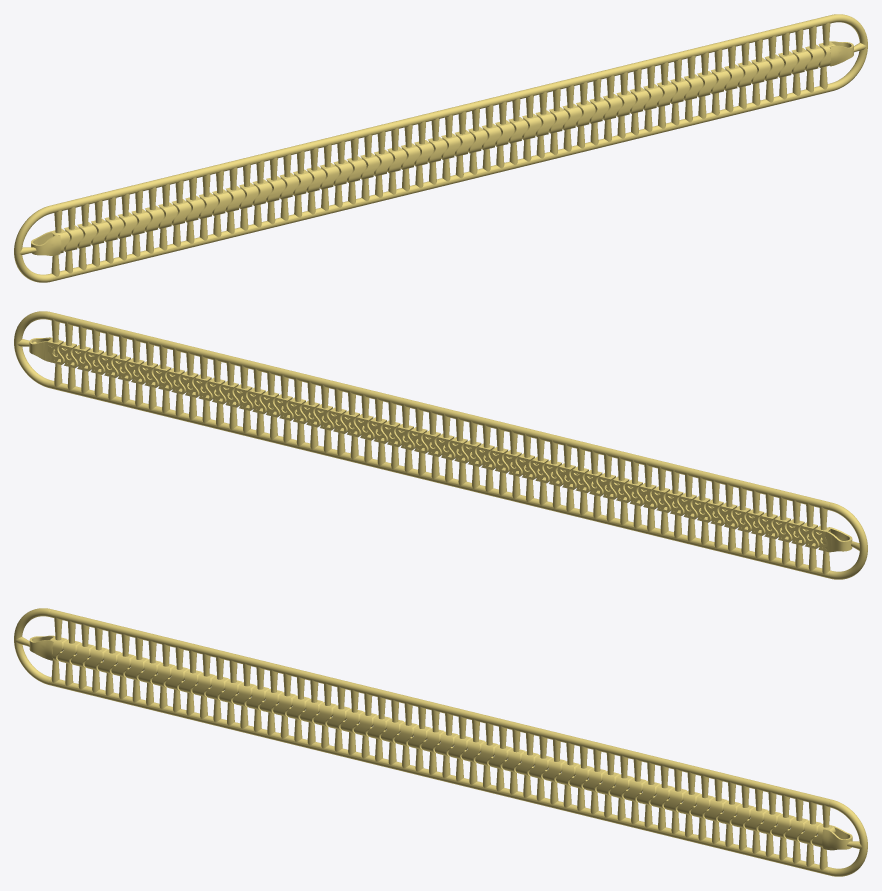
The model's file is yzn5-133_b.glb.
The picture shows the model from 3 angles, top to bottom: view 1: azimuth 30°, elevation 25°; view 2: azimuth 150°, elevation 25°; view 3: azimuth 330°, elevation 25°; orthographic projection.
Parts seen in each view (by area): view 1: Renderer Node; view 2: Renderer Node; view 3: Renderer Node.
Boxes of the visible parts, left/top/right/bottom form: Renderer Node: left=14, top=14, right=867, bottom=282; Renderer Node: left=14, top=311, right=867, bottom=579; Renderer Node: left=14, top=608, right=867, bottom=876.
Size of the model in its own units: 181 by 15.36 by 3.19.
